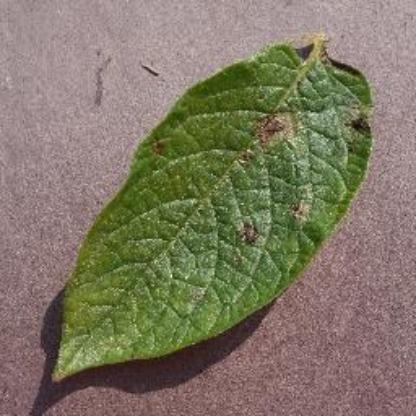Late-Blight: (47, 30, 379, 390)
